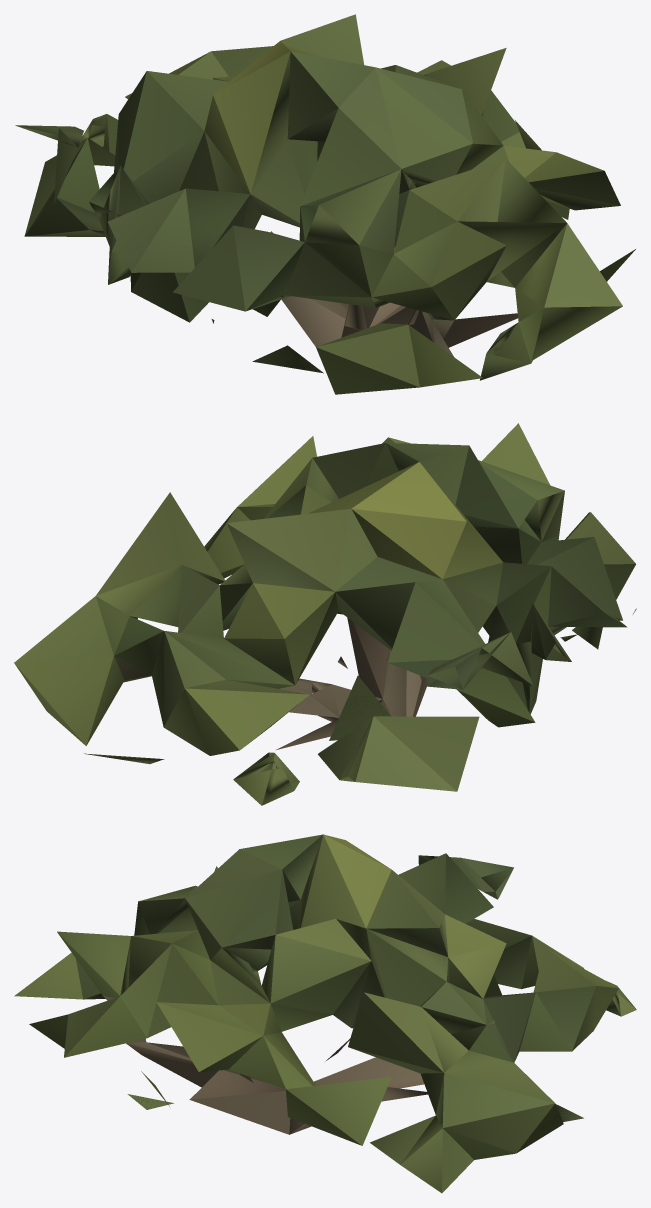
File: shrub-scrub-oak.glb
The picture shows the model from 3 angles, top to bottom: view 1: azimuth 30°, elevation 25°; view 2: azimuth 150°, elevation 25°; view 3: azimuth 270°, elevation 25°; orthographic projection. The views are drawn at different scales.
Visible parts, largest first — view 1: shrub-scrub-oak_LOD0; view 2: shrub-scrub-oak_LOD0; view 3: shrub-scrub-oak_LOD0.
Part boxes in pixels (x1=…): shrub-scrub-oak_LOD0: x1=15, y1=14, x2=635, y2=394; shrub-scrub-oak_LOD0: x1=14, y1=423, x2=636, y2=805; shrub-scrub-oak_LOD0: x1=14, y1=834, x2=636, y2=1193.
Size of what is drawn, in the model's own units: 3.56 by 2.13 by 4.43.
